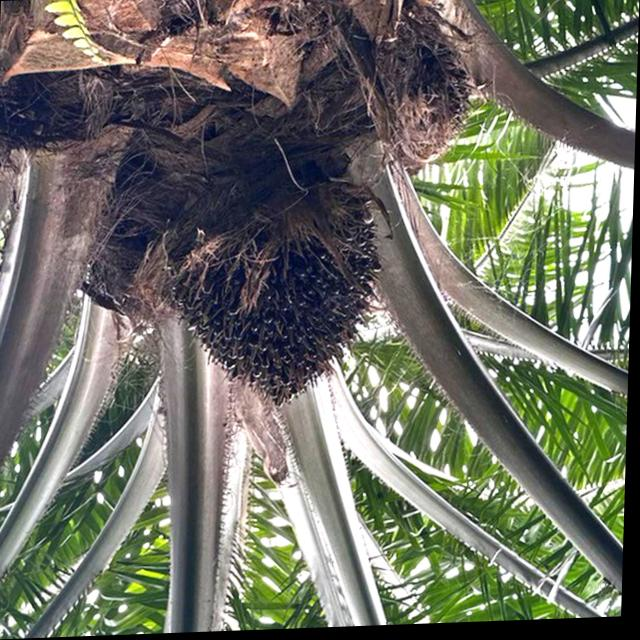unripe: (153, 186, 402, 425)
